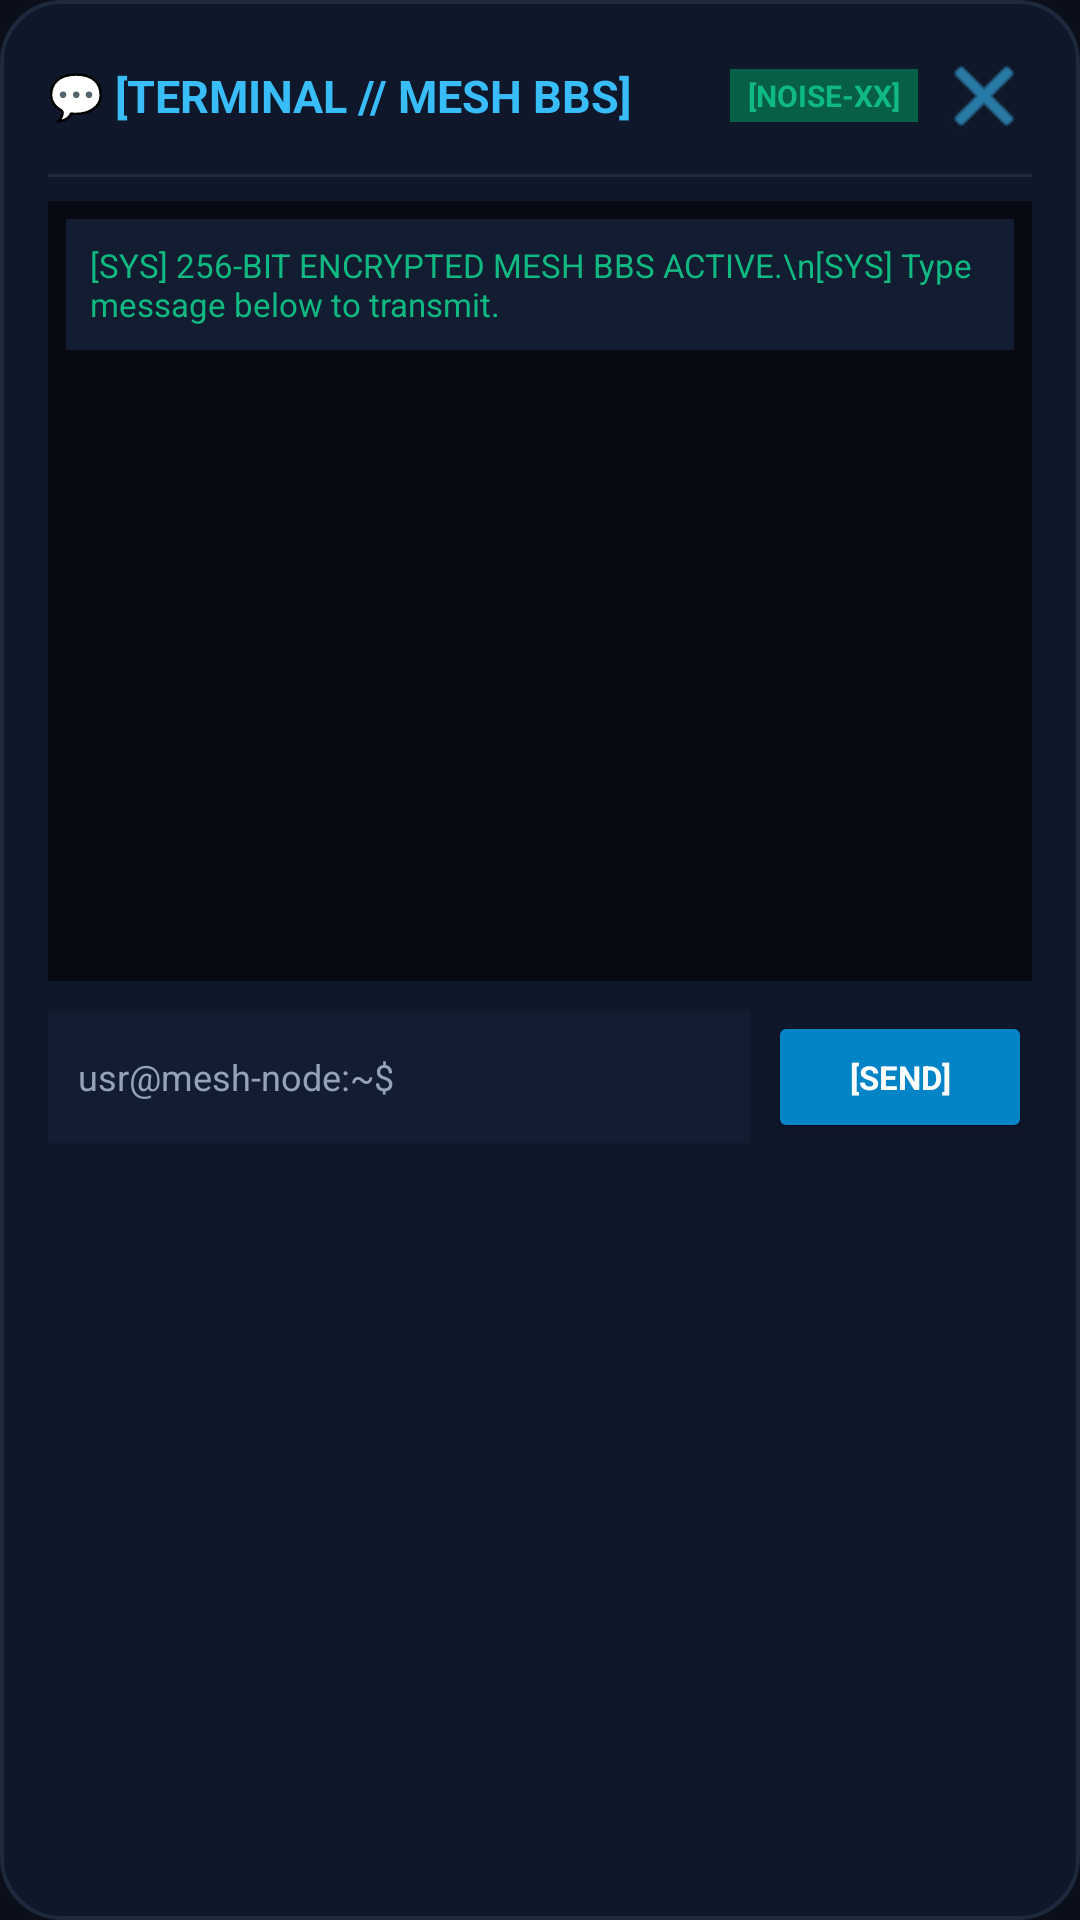

Where to tap for icons on this 1080×1920 app screen, as point (x, y):
Close: point (984, 96)
